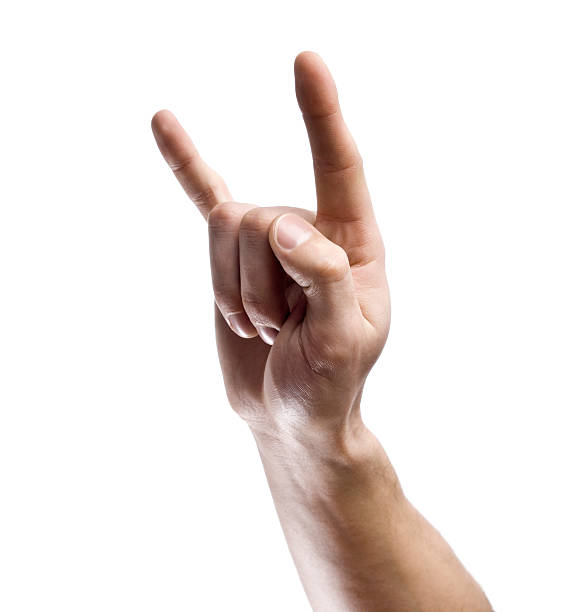Rock On: (141, 43, 448, 445)
